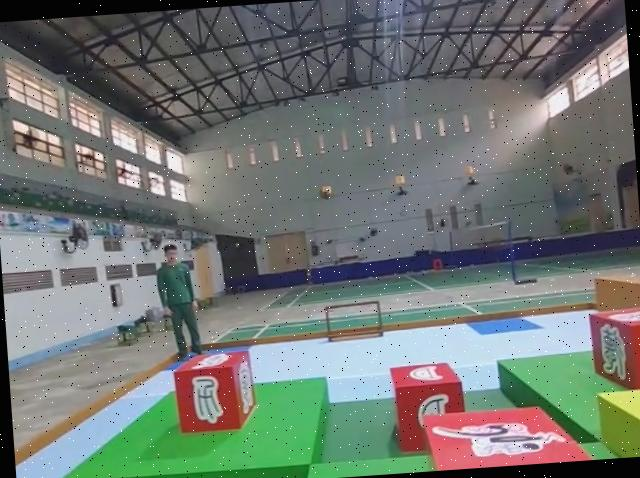R1: (423, 399, 603, 471)
R2 Fake: (172, 348, 261, 436), (588, 306, 640, 390)
R2 Real: (390, 360, 466, 451)
